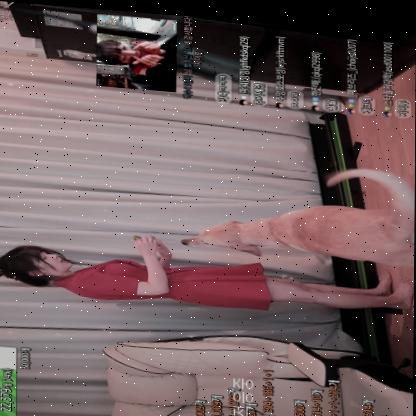donation: (93, 6, 205, 98)
streamer: (0, 222, 415, 317)
